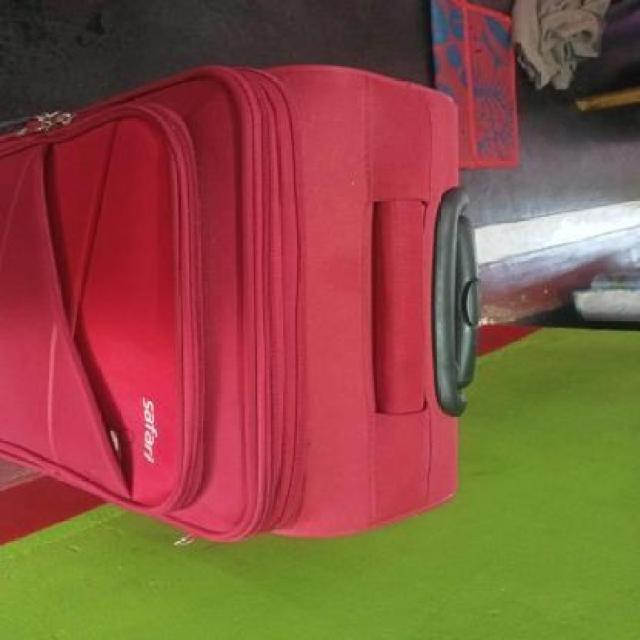backpack: (0, 57, 486, 551)
